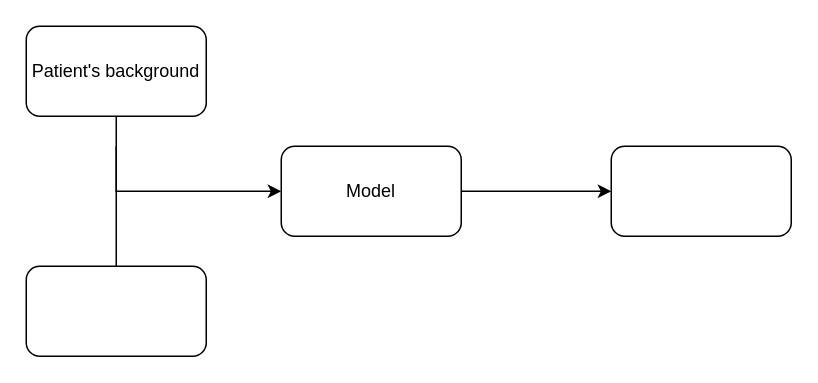
The diagram is 818 pixels wide and 383 high, and some of its shapes have lost their labels. The box of each missing label's shape, as (x1, y1, x2, y2) in pixels:
Patient's QS record (KFSS): (25, 265, 206, 356)
Relapse in n months' time: (610, 145, 791, 236)
